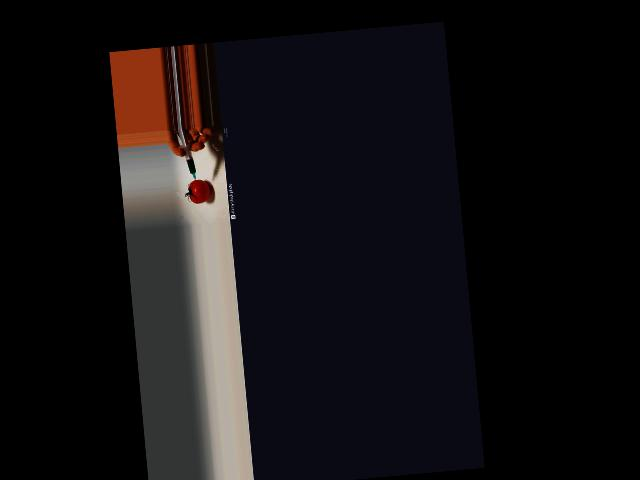tomato: (188, 178, 211, 203)
